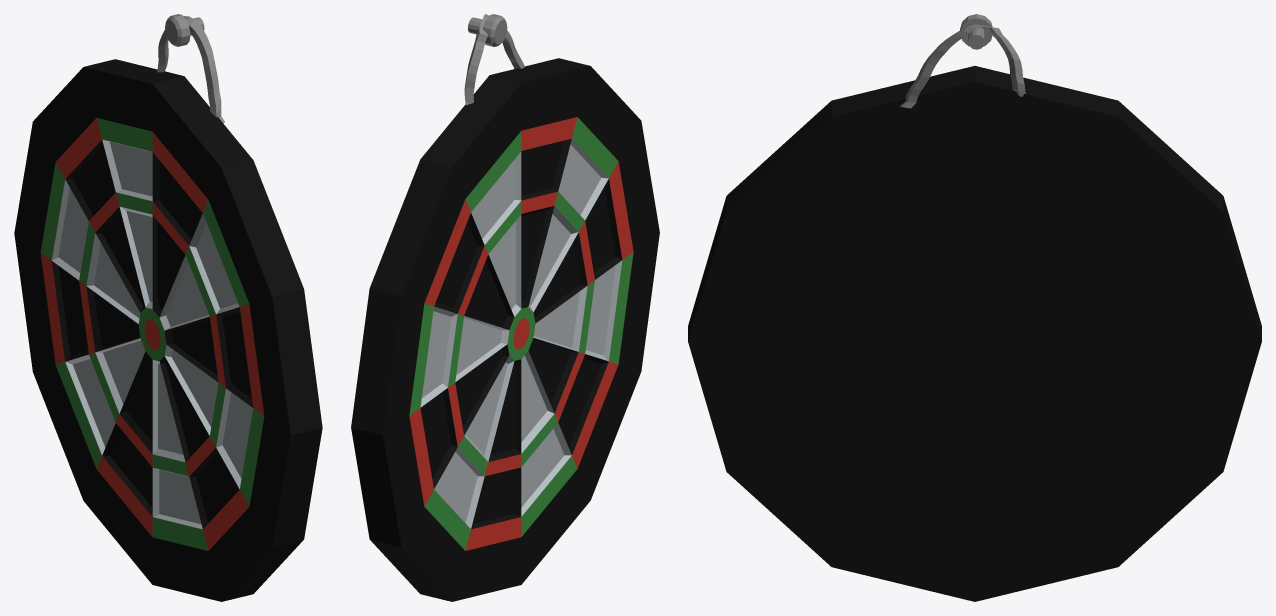
The model's file is Dartboard.gltf.
3 views of the same model, side by side, from view 1: azimuth 30°, elevation 25°; view 2: azimuth 150°, elevation 25°; view 3: azimuth 270°, elevation 25° (orthographic). The views are drawn at different scales.
Parts seen in each view (by area): view 1: node_MeshObject628146752-PolyPaper22; view 2: node_MeshObject628146752-PolyPaper22; view 3: node_MeshObject628146752-PolyPaper22.
Boxes of the visible parts, x1,y1,x2,y2 form: node_MeshObject628146752-PolyPaper22: (14, 14, 322, 601); node_MeshObject628146752-PolyPaper22: (351, 14, 659, 601); node_MeshObject628146752-PolyPaper22: (688, 14, 1261, 601).
Size of the model in its own units: 0.1763 by 1.94 by 1.73.
